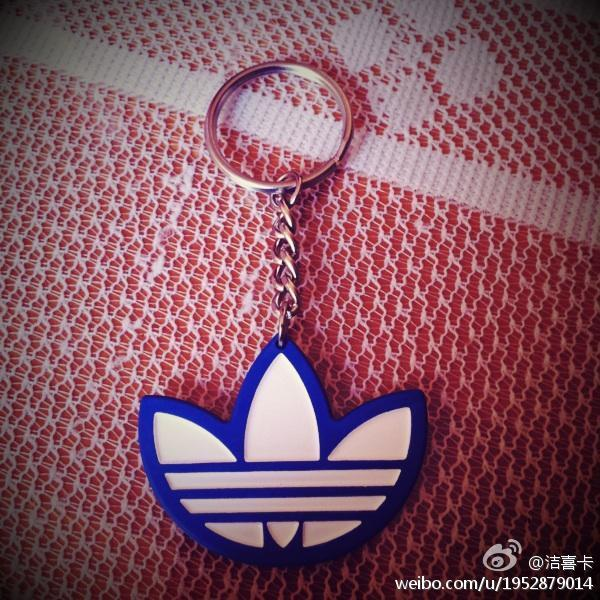Adidas_Originals: (151, 345, 412, 551)
